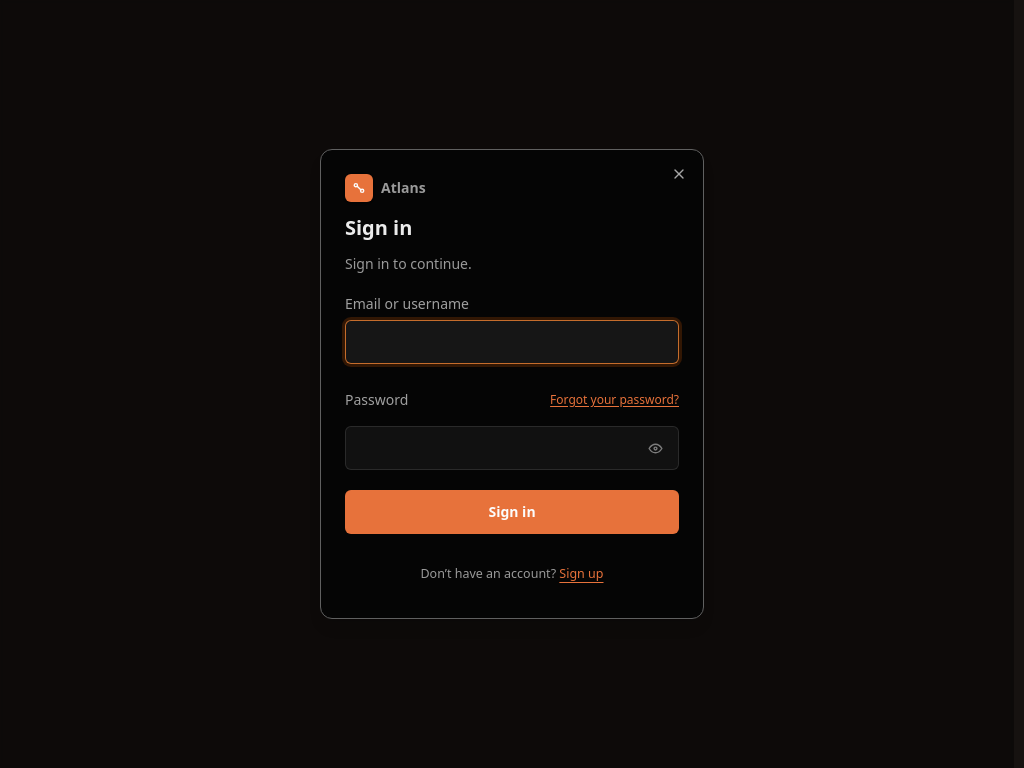
Scenario: entrada em en › entrar: as recusas fixas do servidor saem no idioma; uma desconhecida, como veio
Type "fulana" into the field labelled "Email or username".
click(512, 342); type("fulana")  # box [345,320,679,364]
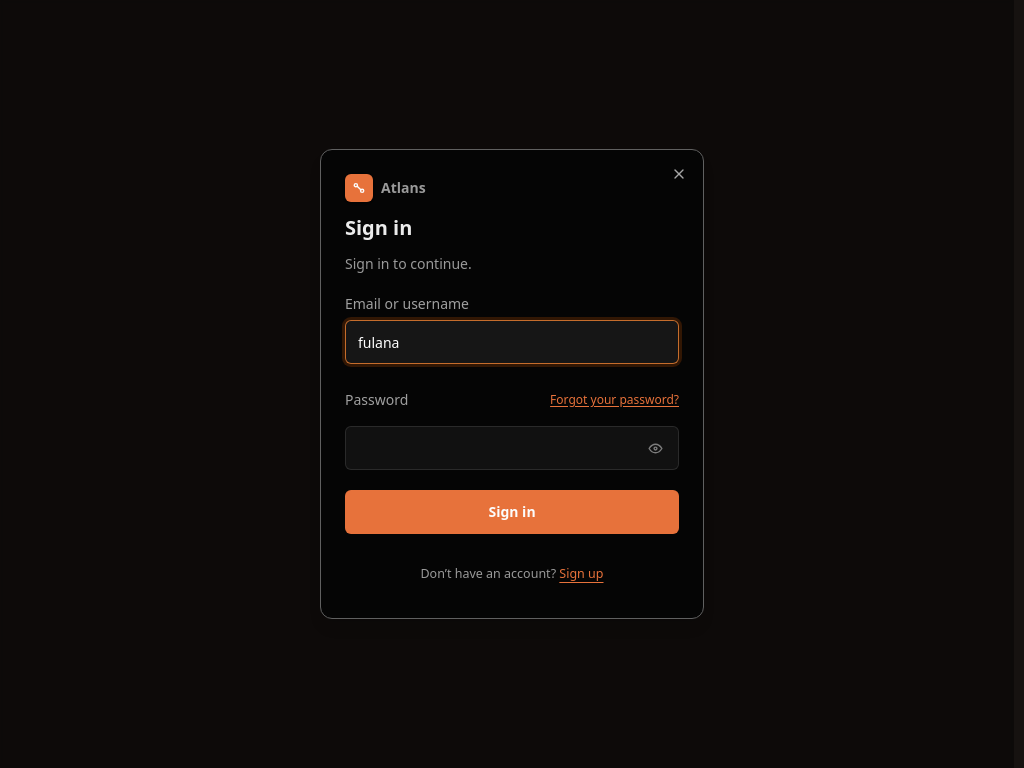
Type "x" into the password field labelled "Password".
click(512, 448); type("x")  # box [345,426,679,470]
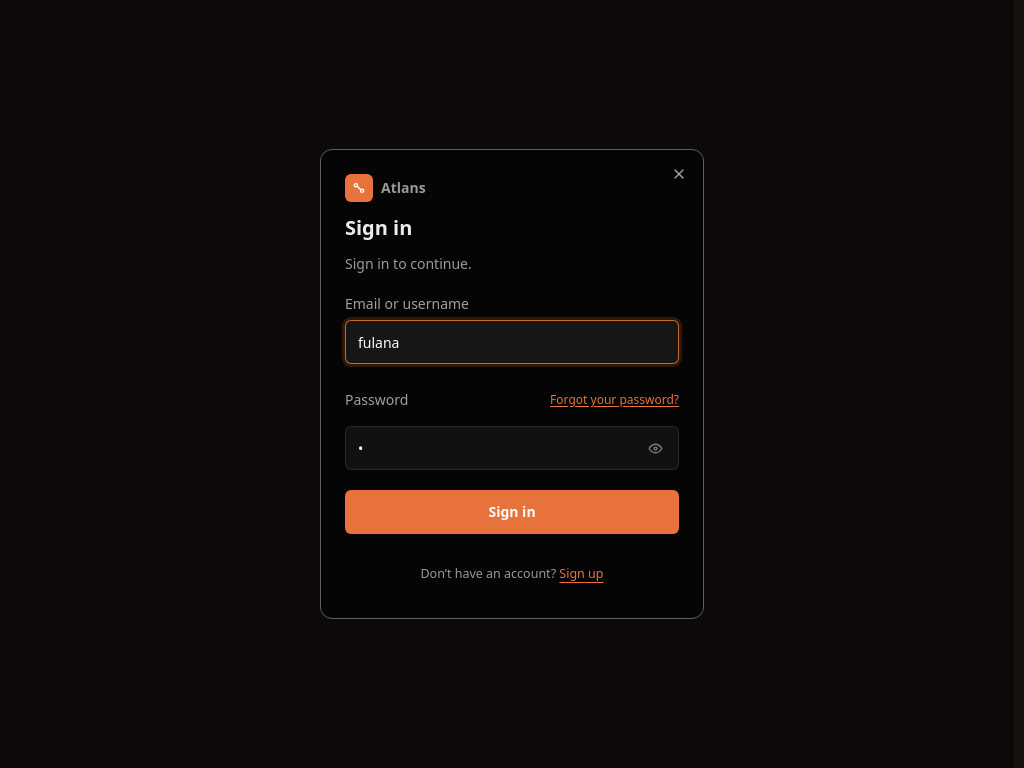
Submit the form labelled "Password", box [345,294,679,534]
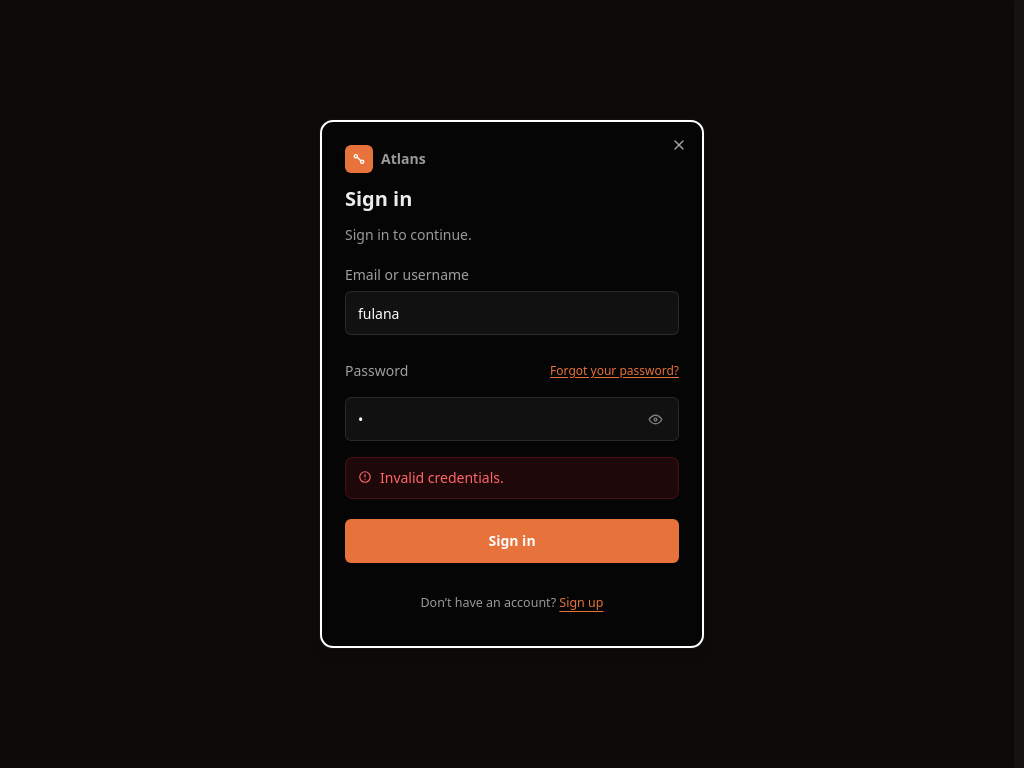
Check: the text "Invalid credentials." is shown, box [380,468,504,488]
Submit the form labelled "Password", box [345,265,679,563]
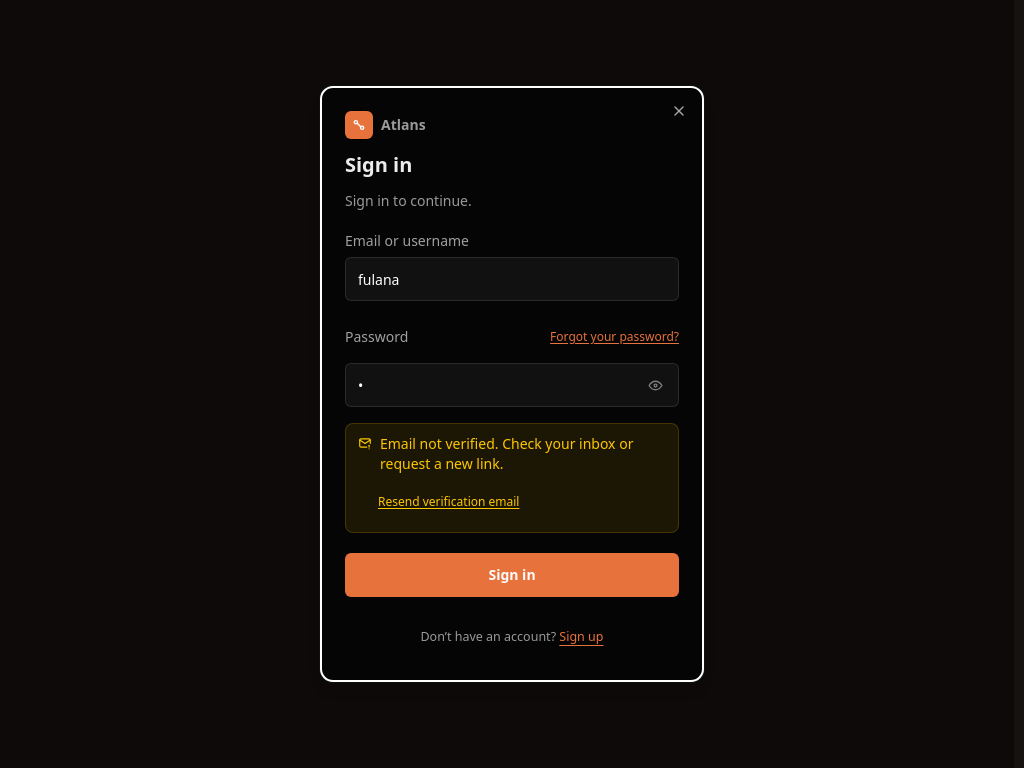
Check: the message shows "Email not verified. Check your inbox or request a new link.", box [380,434,633,473]
Submit the form labelled "Password", box [345,231,679,597]
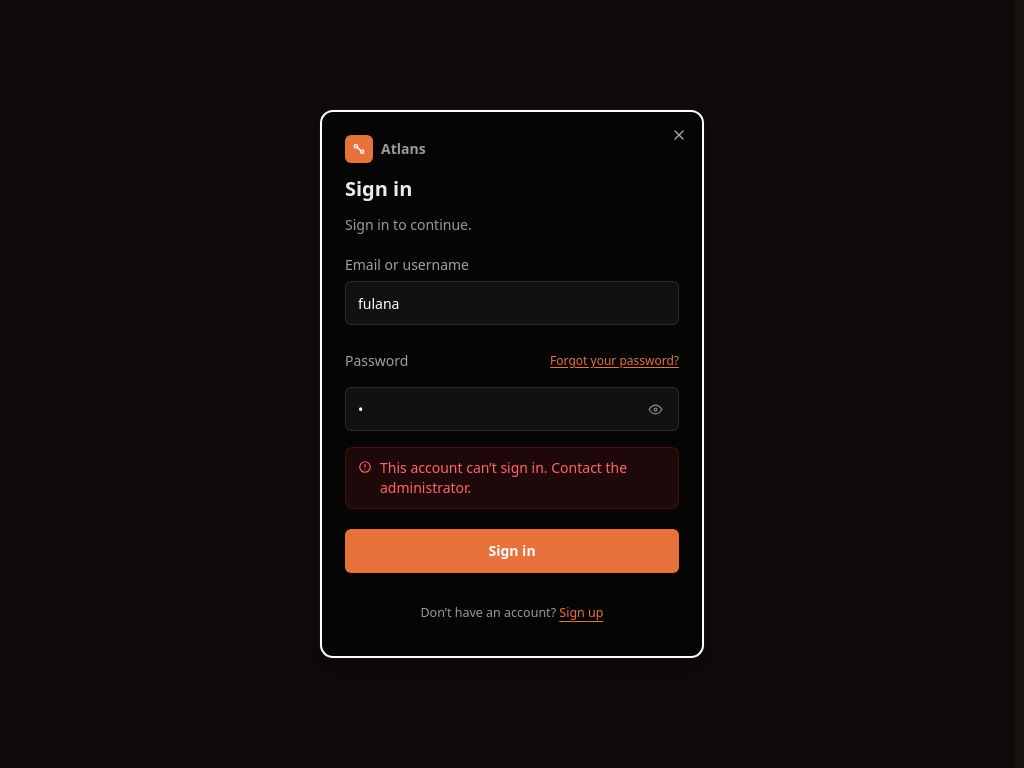
Check: the text "This account can’t sign in. Contact the administrator." is shown, box [380,458,666,498]
Submit the form labelled "Password", box [345,255,679,573]
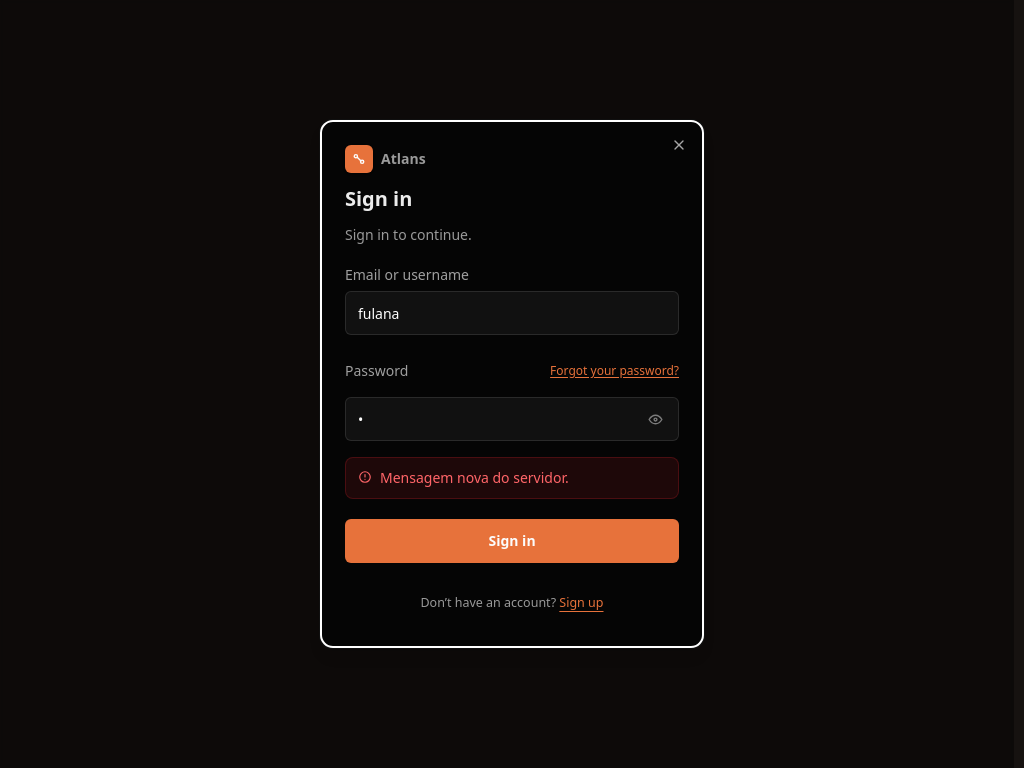
Check: the text "Mensagem nova do servidor." is shown, box [380,468,569,488]
